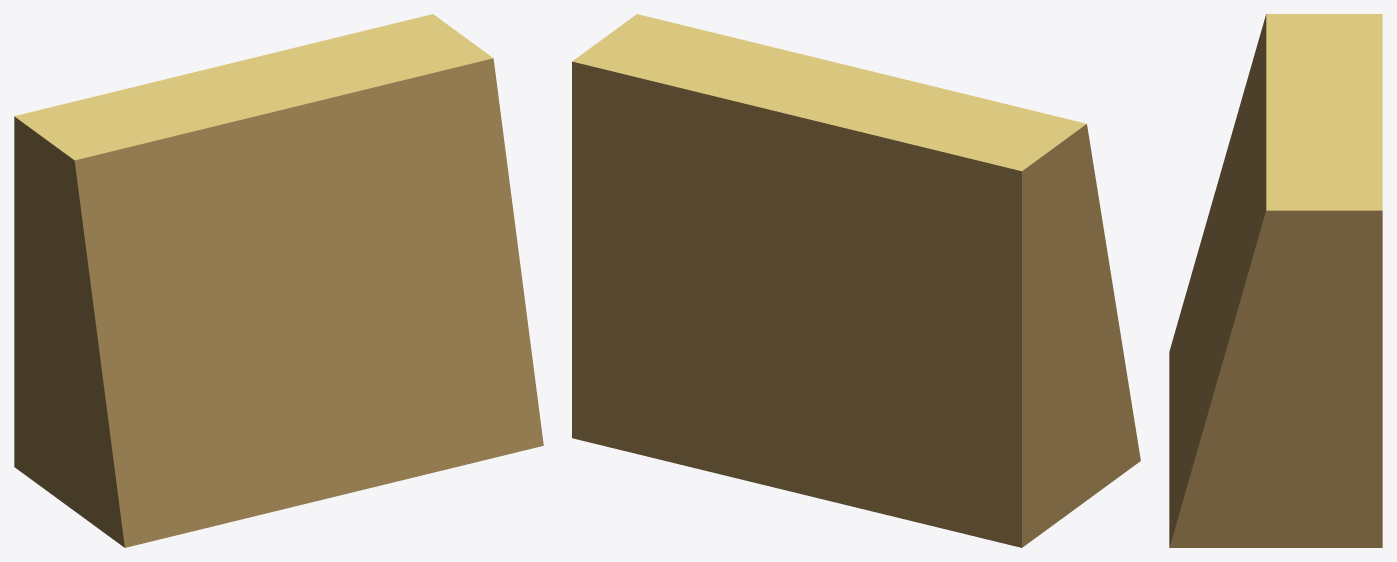
File: Terrain_Modular_Tiles_Sand_Dirt_Cliff_Side_Outer_01.fbx
The picture shows the model from 3 angles, left to right: view 1: azimuth 30°, elevation 25°; view 2: azimuth 150°, elevation 25°; view 3: azimuth 270°, elevation 25°; orthographic projection. The views are drawn at different scales.
Parts seen in each view (by area): view 1: Terrain_Modular_Tiles_Sand_Dirt_Cliff_Side_Outer_01; view 2: Terrain_Modular_Tiles_Sand_Dirt_Cliff_Side_Outer_01; view 3: Terrain_Modular_Tiles_Sand_Dirt_Cliff_Side_Outer_01.
Boxes of the visible parts, x1,y1,x2,y2 form: Terrain_Modular_Tiles_Sand_Dirt_Cliff_Side_Outer_01: [14, 14, 543, 547]; Terrain_Modular_Tiles_Sand_Dirt_Cliff_Side_Outer_01: [572, 14, 1140, 547]; Terrain_Modular_Tiles_Sand_Dirt_Cliff_Side_Outer_01: [1169, 14, 1382, 547].
Size of the model in its own units: 118 by 94.49 by 54.07.
